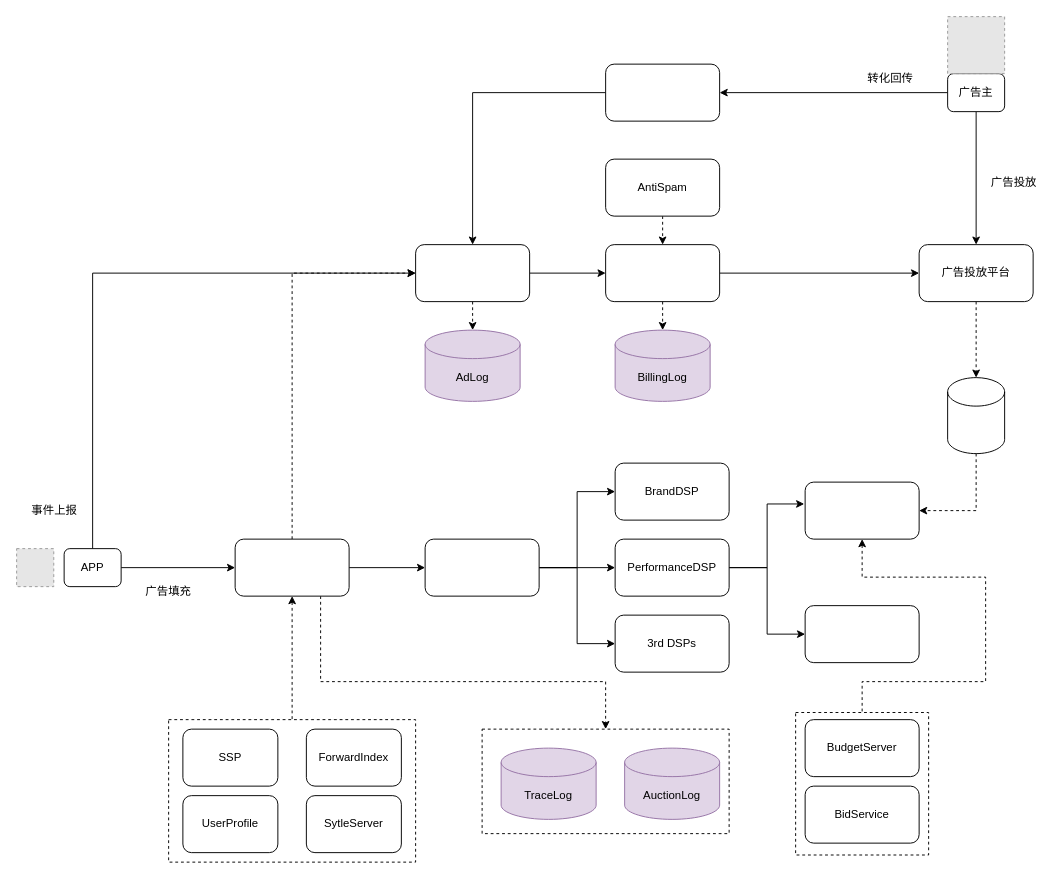
This 1059x879 diagram has some shape labels left out. Grey dashed boxes stand in for pictures. The centre of each missing label's shape, as x and y in pixels:
Ad Index: the point at 976,415
ADX: the point at 481,567
BillingService: the point at 662,273
CallbackServer: the point at 662,92
FrontService: the point at 291,567
LogService: the point at 472,273
RankService: the point at 861,634
RetrieveService: the point at 861,510
